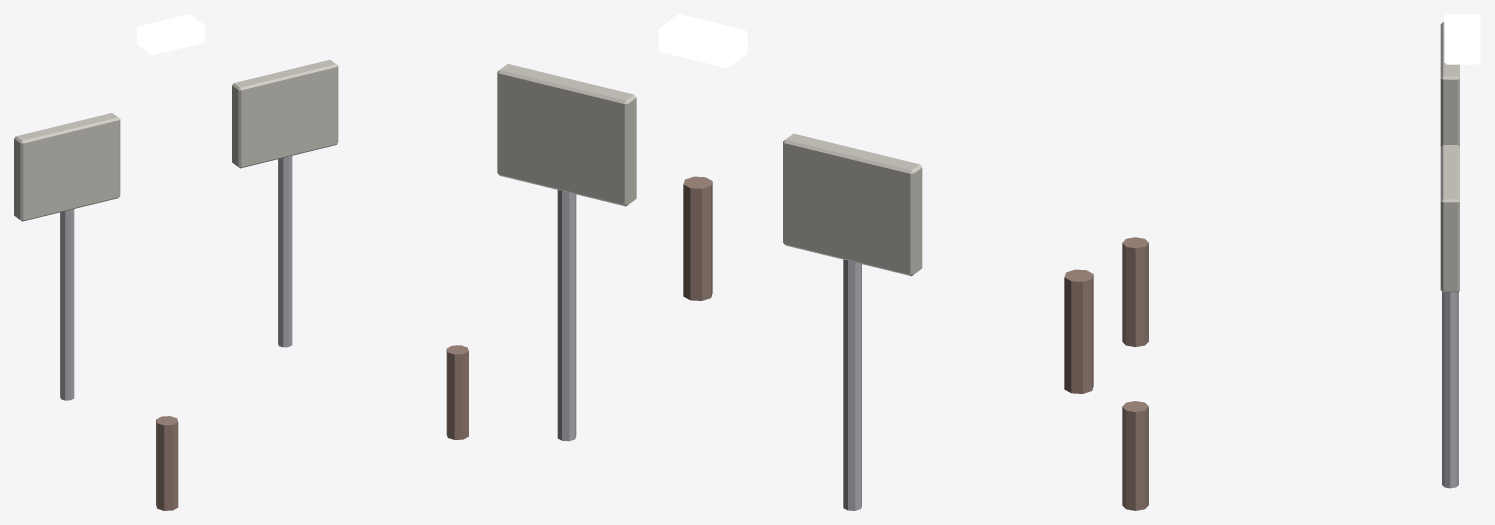
Rendered from kit_cruce_lod1.glb.
3 views of the same model, side by side, from view 1: azimuth 30°, elevation 25°; view 2: azimuth 150°, elevation 25°; view 3: azimuth 270°, elevation 25° (orthographic). The views are drawn at different scales.
Parts seen in each view (by area): view 1: panel_0, panel_1, post_1, post_0, bollard_0, bollard_1, lamp_head; view 2: panel_0, panel_1, post_1, post_0, bollard_0, bollard_1, lamp_head; view 3: post_1, panel_1, bollard_0, bollard_1, lamp_head, panel_0.
Boxes of the visible parts, x1,y1,x2,y2 form: panel_0: (14,113,120,221); panel_1: (232,59,338,168); post_1: (278,156,292,347); post_0: (60,209,74,400); bollard_0: (156,416,178,510); bollard_1: (446,345,468,439); lamp_head: (137,14,204,55); panel_0: (783,133,922,276); panel_1: (497,64,636,206); post_1: (557,190,576,441); post_0: (843,259,861,510); bollard_0: (1064,269,1093,393); bollard_1: (683,176,712,300); lamp_head: (658,14,747,67); post_1: (1442,291,1458,488); panel_1: (1440,145,1459,292); bollard_0: (1122,237,1148,347); bollard_1: (1122,401,1148,510); lamp_head: (1444,14,1480,64); panel_0: (1440,22,1459,146).
Bounding box in the file's own units: 3.5 × 3.6 × 2.96.
